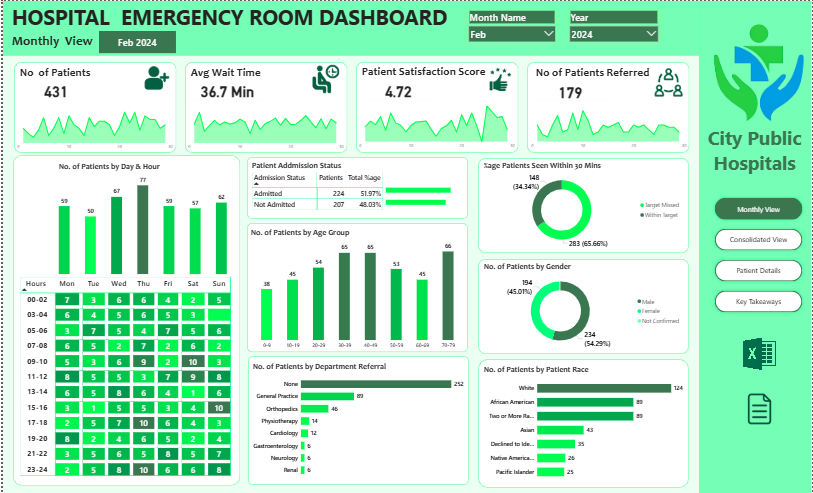

Layout of this report page (visuals, bound fields, positions):
{"tool":"powerbi","page":{"name":"Monthly View","canvas":[2300,1400],"ordinal":0},"visuals":[{"type":"shape","box":[1980,0,320,1400],"z":0},{"type":"shape","box":[1491.6,172.1,462.2,258.7],"z":0,"group":"g1"},{"type":"shape","box":[30.1,172.9,462.2,258.7],"z":0,"group":"g9"},{"type":"pageNavigator","box":[2020,550,265,345],"z":0,"group":"g10"},{"type":"shape","box":[0,0,1980.9,156.4],"z":1000},{"type":"image","box":[1995,25,305,362.5],"z":1000,"group":"g10"},{"type":"group","id":"g1","title":"Group 1","box":[1491.6,172.1,462.2,258.7],"z":1000,"group":"g9"},{"type":"cardVisual","fields":{"Data":["Hospital ER_Data.Satisfaction Score"]},"box":[1006,212.3,239.6,85.6],"z":1000,"group":"g2"},{"type":"cardVisual","fields":{"Data":["Hospital ER_Data.NO. of Patients Referred"]},"box":[1493.2,213.4,239.6,85.6],"z":1000,"group":"g1"},{"type":"cardVisual","fields":{"Data":["Min(Date Table.Month & Year)"]},"box":[272.7,85.5,219.1,62.7],"z":2000},{"type":"shape","box":[1004.4,171,462.2,258.7],"z":2000,"group":"g9"},{"type":"textbox","box":[1018.2,176.2,412.6,56.9],"z":2000,"group":"g2"},{"type":"textbox","box":[1512.7,179,341.1,55.6],"z":2000,"group":"g1"},{"type":"textbox","box":[1987.5,347.5,305,152.5],"z":2000,"group":"g10"},{"type":"textbox","box":[0,0,1289,105.3],"z":3000},{"type":"shape","box":[517.3,172.8,462.2,258.7],"z":3000,"group":"g9"},{"type":"cardVisual","fields":{"Data":["Hospital ER_Data.No. of Patients"]},"box":[31.7,214.3,239.6,85.6],"z":3000,"group":"g7"},{"type":"areaChart","fields":{"Category":["Date Table.Date.Variation.Date Hierarchy.Day"],"Y":["Hospital ER_Data.Satisfaction Score"]},"box":[1003,284.4,462.5,145.6],"z":3000,"group":"g2"},{"type":"textbox","box":[19.9,85.4,270.3,71.1],"z":4000},{"type":"group","id":"g2","title":"Group 2","box":[1003,176.2,462.5,253.7],"z":4000,"group":"g9"},{"type":"textbox","box":[43.9,179.3,259.3,55.7],"z":4000,"group":"g7"},{"type":"areaChart","fields":{"Category":["Date Table.Date.Variation.Date Hierarchy.Day"],"Y":["Hospital ER_Data.NO. of Patients Referred"]},"box":[1491.7,283.9,462.2,145.6],"z":5000,"group":"g9"},{"type":"group","id":"g3","title":"Group 4","box":[1350.4,447.7,600.4,939],"z":5000},{"type":"group","id":"g4","title":"Group 8","box":[515.8,179.1,462.5,252.6],"z":6000,"group":"g9"},{"type":"areaChart","fields":{"Category":["Date Table.Date.Variation.Date Hierarchy.Day"],"Y":["Hospital ER_Data.No. of Patients"]},"box":[28.7,286.3,462.5,145.6],"z":6000,"group":"g7"},{"type":"group","id":"g5","title":"Group 5","box":[694.3,443.9,648.8,933.3],"z":6000},{"type":"group","id":"g6","title":"Group 6","box":[1313.2,22.8,560.4,99.6],"z":7000},{"type":"group","id":"g7","title":"Group 9","box":[28.7,179.3,462.5,252.6],"z":7000,"group":"g9"},{"type":"image","box":[839.2,163.8,148.6,118.6],"z":8000,"group":"g9"},{"type":"group","id":"g8","title":"Group 7","box":[29.1,438.2,646.4,940.9],"z":8000},{"type":"group","id":"g9","title":"Group 10","box":[28.7,163.8,1925.2,268.1],"z":9000},{"type":"image","box":[1367.7,185.4,97.1,80],"z":9000,"group":"g9"},{"type":"cardVisual","fields":{"Data":["Hospital ER_Data.Avg Wait Time"]},"box":[518.8,214.1,239.6,85.6],"z":9000,"group":"g4"},{"type":"image","box":[387.5,177.5,95,90],"z":10000},{"type":"image","box":[1842,185.4,107.1,94.3],"z":10000,"group":"g9"},{"type":"group","id":"g10","title":"Group 11","box":[1987.5,25,312.5,870],"z":11000},{"type":"image","box":[2087.5,932.5,127.5,145],"z":12000},{"type":"textbox","box":[531,179.1,259.3,55.7],"z":13000,"group":"g4"},{"type":"image","box":[2094.3,1104.3,117.1,117.1],"z":13000},{"type":"slicer","fields":{"Values":["Date Table.Month Name"]},"box":[1313.2,23.1,268.5,99.2],"z":14000,"group":"g6"},{"type":"areaChart","fields":{"Category":["Date Table.Date.Variation.Date Hierarchy.Day"],"Y":["Avg(Hospital ER_Data.Patient Waittime)"]},"box":[515.8,286.1,462.5,145.6],"z":14000,"group":"g4"},{"type":"slicer","fields":{"Values":["Date Table.Year"]},"box":[1600.4,22.8,273.2,99.6],"z":15000,"group":"g6"},{"type":"shape","box":[694.3,443.9,628.8,176.2],"z":16000,"group":"g5"},{"type":"shape","box":[29.1,438.2,646.4,940.9],"z":19000,"group":"g8"},{"type":"pivotTable","title":"Patient Addmission Status","fields":{"Rows":["Hospital ER_Data.Admission Status"],"Values":["Hospital ER_Data.No. of Patients1","Hospital ER_Data.No. of Patients"]},"box":[704,452,396.5,154.4],"z":20000,"group":"g11"},{"type":"shape","box":[694.3,632.7,628.8,368],"z":20000,"group":"g5"},{"type":"barChart","fields":{"Category":["Hospital ER_Data.Admission Status"],"Y":["Hospital ER_Data.No. of Patients"]},"box":[1085.6,500.8,257.3,104.5],"z":21000,"group":"g11"},{"type":"clusteredColumnChart","fields":{"Category":["Hospital ER_Data.Age Group"],"Y":["Hospital ER_Data.No. of Patients"]},"box":[698.8,644.4,618.6,355.7],"z":21000,"group":"g5"},{"type":"pivotTable","fields":{"Rows":["Hospital ER_Data.Wait Time Interval"],"Columns":["Date Table.Day"],"Values":["Hospital ER_Data.No. of Patients"]},"box":[43.6,779.1,615.5,586.4],"z":22000,"group":"g8"},{"type":"shape","box":[697.3,1011.6,628.6,367.1],"z":22000,"group":"g5"},{"type":"columnChart","title":"No. of Patients by Day & Hour","fields":{"Category":["Date Table.Day"],"Y":["Hospital ER_Data.No. of Patients"]},"box":[155.4,456.2,490.8,327.7],"z":23000,"group":"g8"},{"type":"clusteredBarChart","fields":{"Category":["Hospital ER_Data.Department Referral"],"Y":["Hospital ER_Data.No. of Patients"]},"box":[704.5,1024.4,612.9,341.4],"z":23000,"group":"g5"},{"type":"shape","box":[1350.4,447.7,600.4,270.3],"z":24000,"group":"g3"},{"type":"group","id":"g11","title":"Group 3","box":[704,452,638.9,154.4],"z":24000,"group":"g5"},{"type":"donutChart","title":"%age Patients Seen Within 30 Mins","fields":{"Category":["Hospital ER_Data.Wait Time Status"],"Y":["Hospital ER_Data.No. of Patients"]},"box":[1361.8,453.4,574.8,256.1],"z":25000,"group":"g3"},{"type":"shape","box":[1350.4,735.1,600.4,270.3],"z":26000,"group":"g3"},{"type":"donutChart","title":"No. of  Patients by Gender","fields":{"Y":["Hospital ER_Data.No. of Patients"],"Category":["Hospital ER_Data.Patient Gender"]},"box":[1361.8,740.8,574.8,256.1],"z":27000,"group":"g3"},{"type":"shape","box":[1350.4,1019.7,600.4,367.1],"z":28000,"group":"g3"},{"type":"clusteredBarChart","fields":{"Y":["Hospital ER_Data.No. of Patients"],"Category":["Hospital ER_Data.Patient Race"]},"box":[1361.8,1033.8,577.1,341.4],"z":29000,"group":"g3"}]}

Visuals, with their boxes in screenshot pixels (x1, y1, x2, y2), scaled from the page's 2300x1400 canvas onto the 813x493 screenshot:
shape: 700,0,812,492
shape: 527,61,691,152
shape: 11,61,174,152
pageNavigator: 714,194,808,315
shape: 0,0,700,55
image: 705,9,812,136
"Group 1" group: 527,61,691,152
cardVisual - Hospital ER_Data.Satisfaction Score: 356,75,440,105
cardVisual - Hospital ER_Data.NO. of Patients Referred: 528,75,613,105
cardVisual - Min(Date Table.Month & Year): 96,30,174,52
shape: 355,60,518,151
textbox: 360,62,506,82
textbox: 535,63,655,83
textbox: 703,122,810,176
textbox: 0,0,456,37
shape: 183,61,346,152
cardVisual - Hospital ER_Data.No. of Patients: 11,75,96,106
areaChart - Date Table.Date.Variation.Date Hierarchy.Day x Hospital ER_Data.Satisfaction Score: 355,100,518,151
textbox: 7,30,103,55
"Group 2" group: 355,62,518,151
textbox: 16,63,107,83
areaChart - Date Table.Date.Variation.Date Hierarchy.Day x Hospital ER_Data.NO. of Patients Referred: 527,100,691,151
"Group 4" group: 477,158,690,488
"Group 8" group: 182,63,346,152
areaChart - Date Table.Date.Variation.Date Hierarchy.Day x Hospital ER_Data.No. of Patients: 10,101,174,152
"Group 5" group: 245,156,475,485
"Group 6" group: 464,8,662,43
"Group 9" group: 10,63,174,152
image: 297,58,349,99
"Group 7" group: 10,154,239,486
"Group 10" group: 10,58,691,152
image: 483,65,518,93
cardVisual - Hospital ER_Data.Avg Wait Time: 183,75,268,106
image: 137,63,171,94
image: 651,65,689,98
"Group 11" group: 703,9,812,315
image: 738,328,783,379
textbox: 188,63,279,83
image: 740,389,782,430
slicer - Date Table.Month Name: 464,8,559,43
areaChart - Date Table.Date.Variation.Date Hierarchy.Day x Avg(Hospital ER_Data.Patient Waittime): 182,101,346,152
slicer - Date Table.Year: 566,8,662,43
shape: 245,156,468,218
shape: 10,154,239,486
"Patient Addmission Status" pivotTable: 249,159,389,214
shape: 245,223,468,352
barChart - Hospital ER_Data.Admission Status x Hospital ER_Data.No. of Patients: 384,176,475,213
clusteredColumnChart - Hospital ER_Data.Age Group x Hospital ER_Data.No. of Patients: 247,227,466,352
pivotTable - Hospital ER_Data.Wait Time Interval x Date Table.Day: 15,274,233,481
shape: 246,356,469,485
"No. of Patients by Day & Hour" columnChart: 55,161,228,276
clusteredBarChart - Hospital ER_Data.Department Referral x Hospital ER_Data.No. of Patients: 249,361,466,481
shape: 477,158,690,253
"Group 3" group: 249,159,475,214
"%age Patients Seen Within 30 Mins" donutChart: 481,160,685,250
shape: 477,259,690,354
"No. of  Patients by Gender" donutChart: 481,261,685,351
shape: 477,359,690,488
clusteredBarChart - Hospital ER_Data.No. of Patients x Hospital ER_Data.Patient Race: 481,364,685,484
